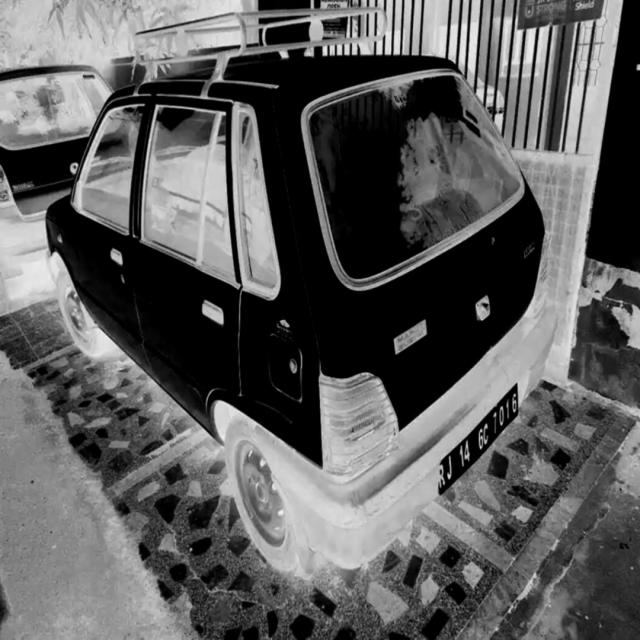Non_registered: (434, 381, 520, 495)
